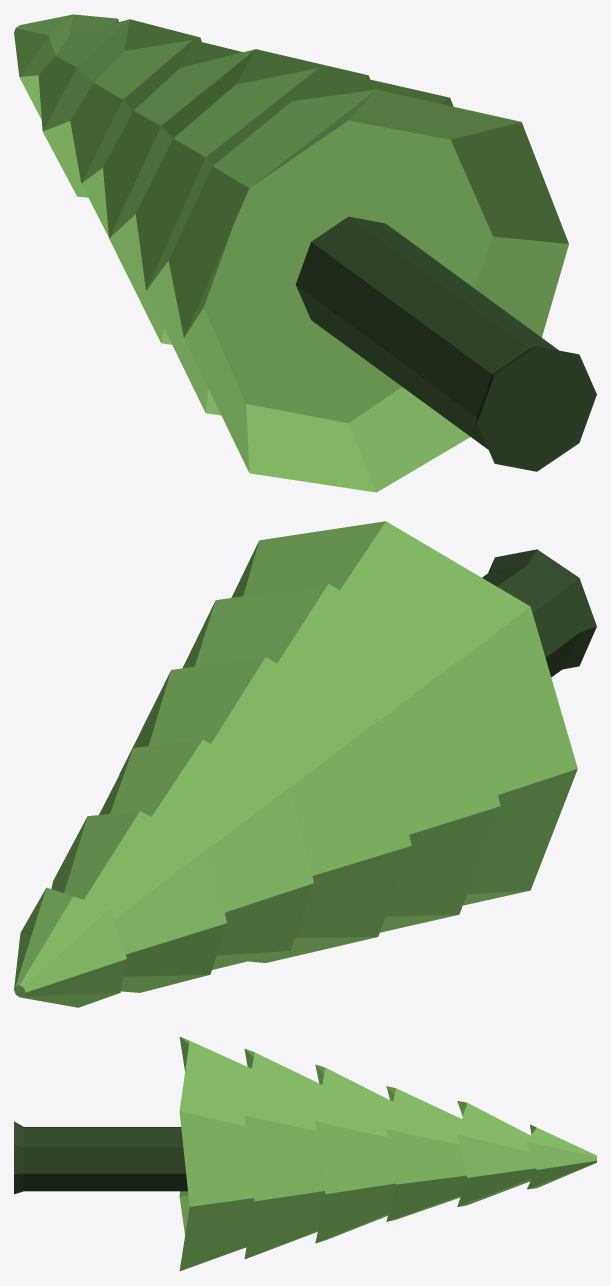
The model's file is Pine_2.fbx.
The picture shows the model from 3 angles, top to bottom: view 1: azimuth 30°, elevation 25°; view 2: azimuth 150°, elevation 25°; view 3: azimuth 270°, elevation 25°; orthographic projection. The views are drawn at different scales.
Parts seen in each view (by area): view 1: Pine_2; view 2: Pine_2; view 3: Pine_2.
Part boxes in pixels (x1,y1,x2,y2): Pine_2: (14,14,596,492); Pine_2: (14,521,596,1007); Pine_2: (14,1037,596,1271).
Bounding box in the file's own units: 307 × 307 × 715.
